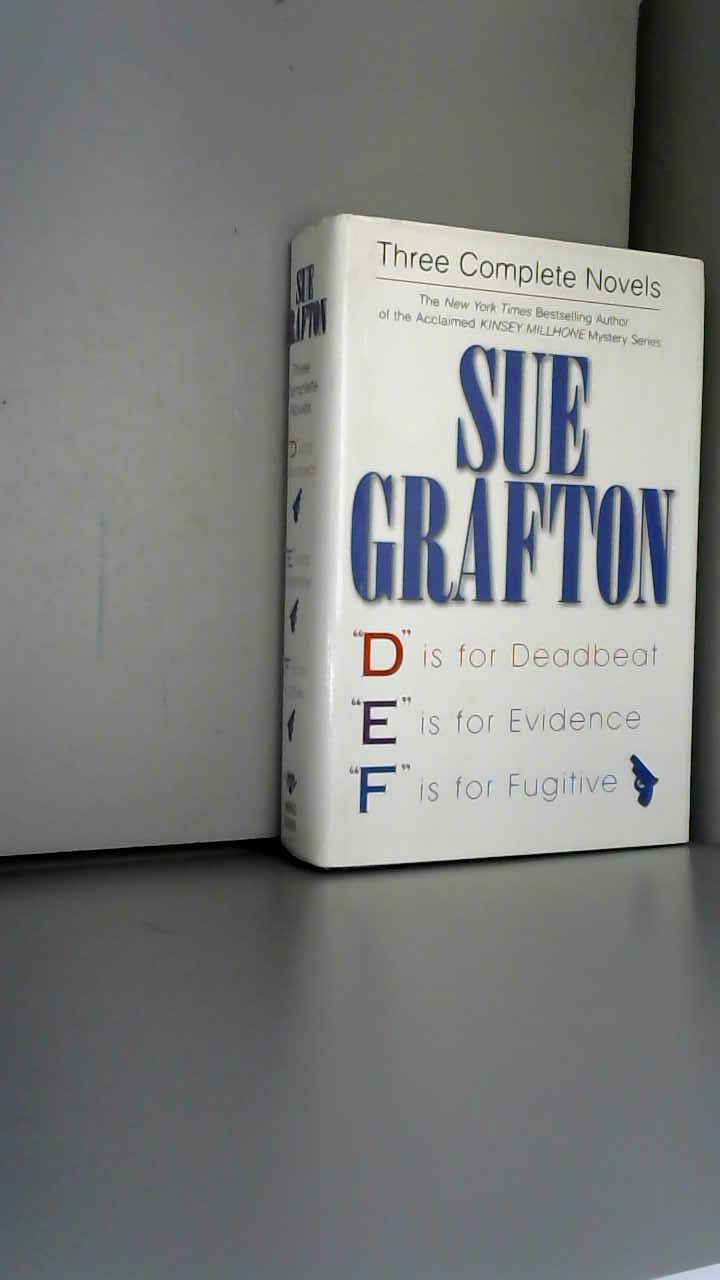book: (250, 190, 720, 904)
